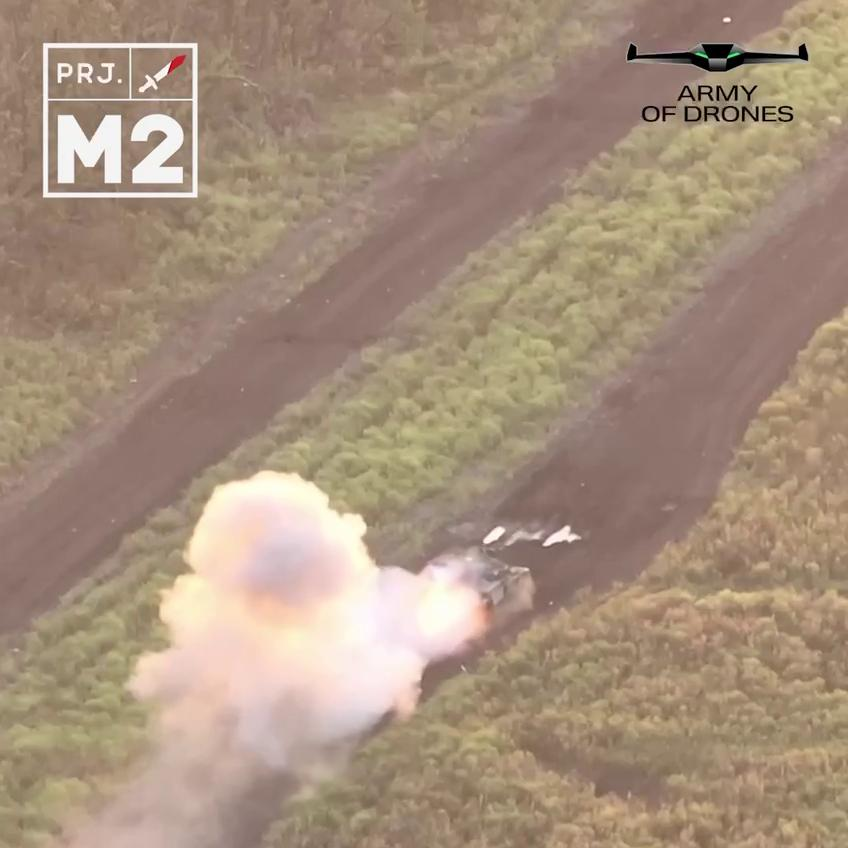tank: (401, 538, 546, 654)
